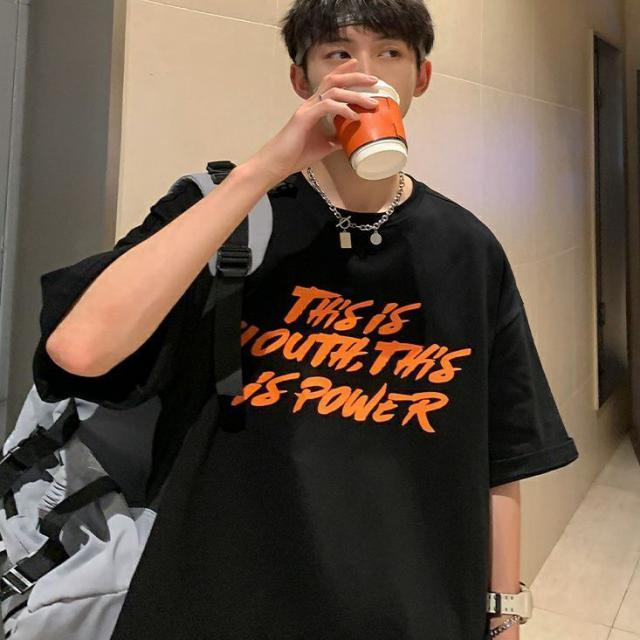Shirt: (37, 158, 586, 639)
